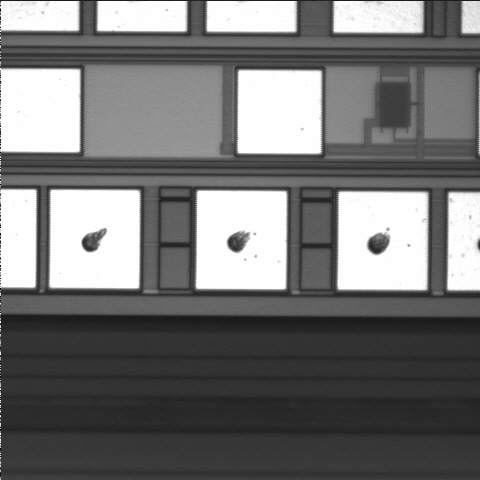pad: (196, 191, 287, 289), (50, 190, 140, 288), (338, 192, 428, 290), (238, 70, 321, 154)
